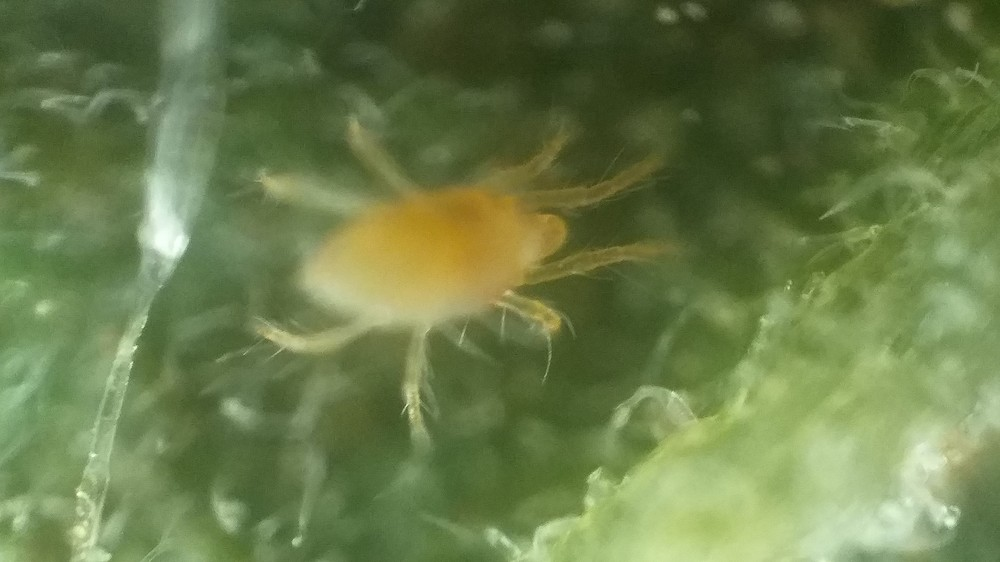Aracnido Rojo: (227, 96, 697, 443)
